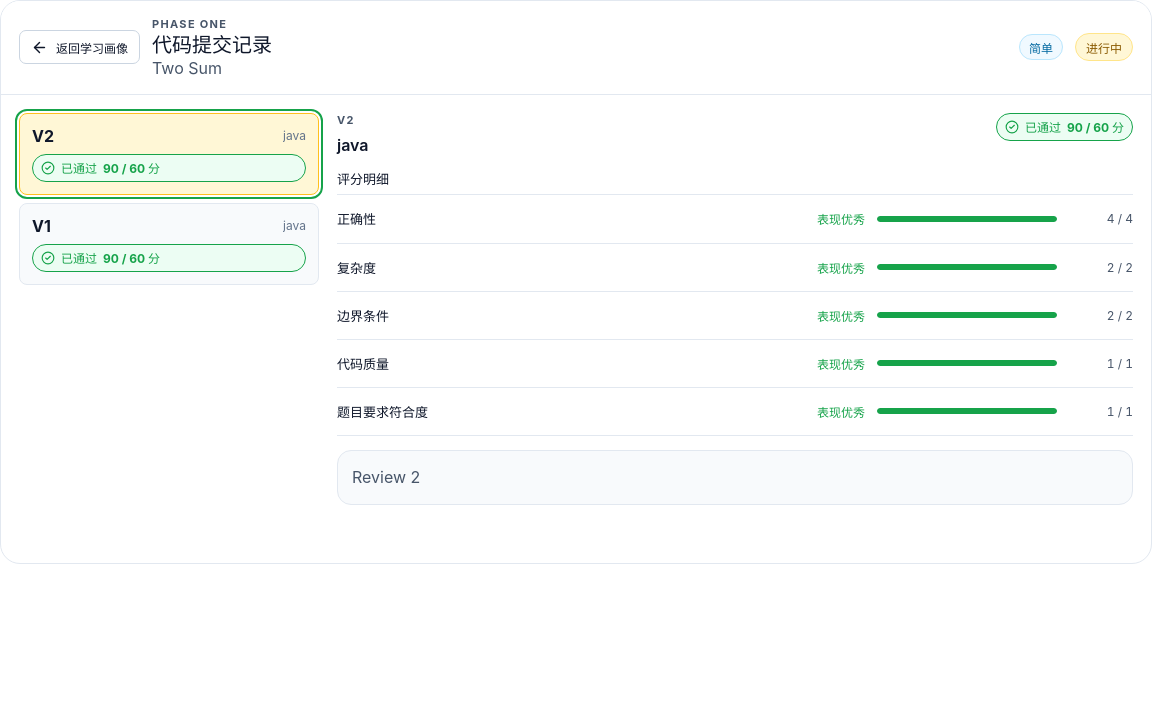
Test case: PracticeSubmissionHistoryPage deep links › selects, highlights, scrolls to, and loads the requested review without overriding a manual selection
Expected: the text "Review 2" is shown, [352,467,420,487]
Click the button "V1 java 已通过 90 / 60 分".
click(169, 244)  # box [19,203,319,285]
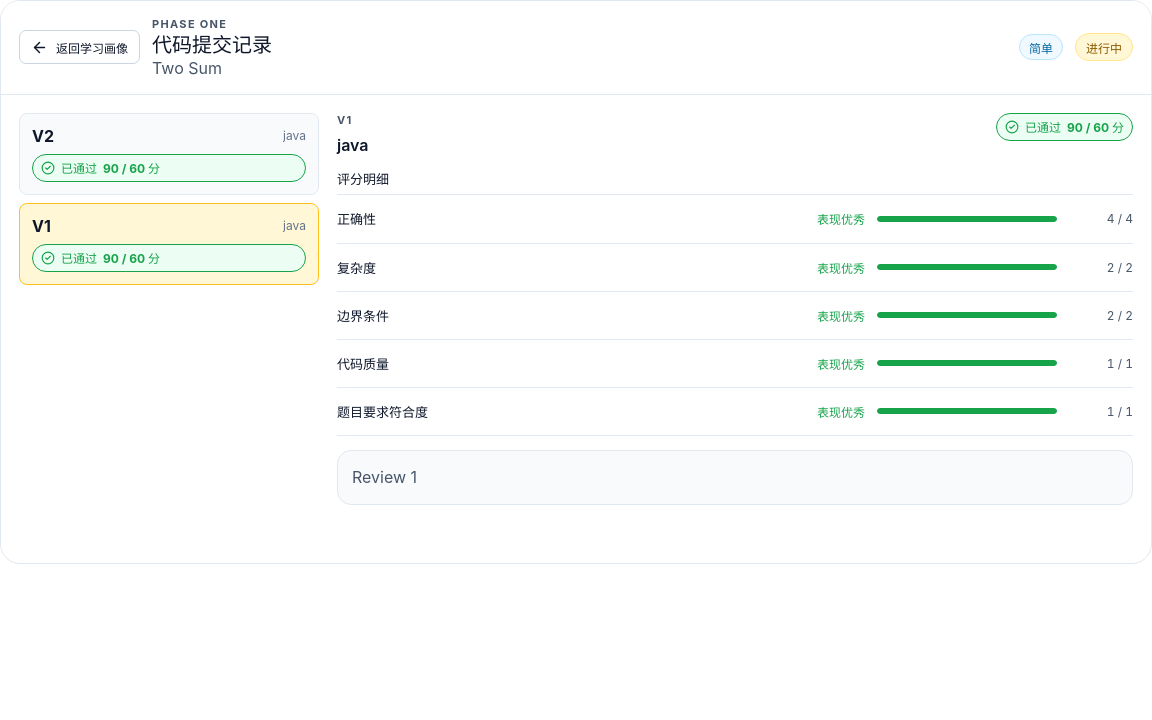
Expected: the text "Review 1" is shown, [352,467,417,487]
